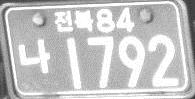1: (64, 35, 83, 91)
2: (147, 34, 180, 88)
4: (115, 6, 135, 33)
7: (85, 35, 114, 89)
8: (95, 7, 116, 34)
9: (116, 34, 145, 88)
나: (16, 37, 51, 74)
전북_O: (53, 9, 94, 32)
